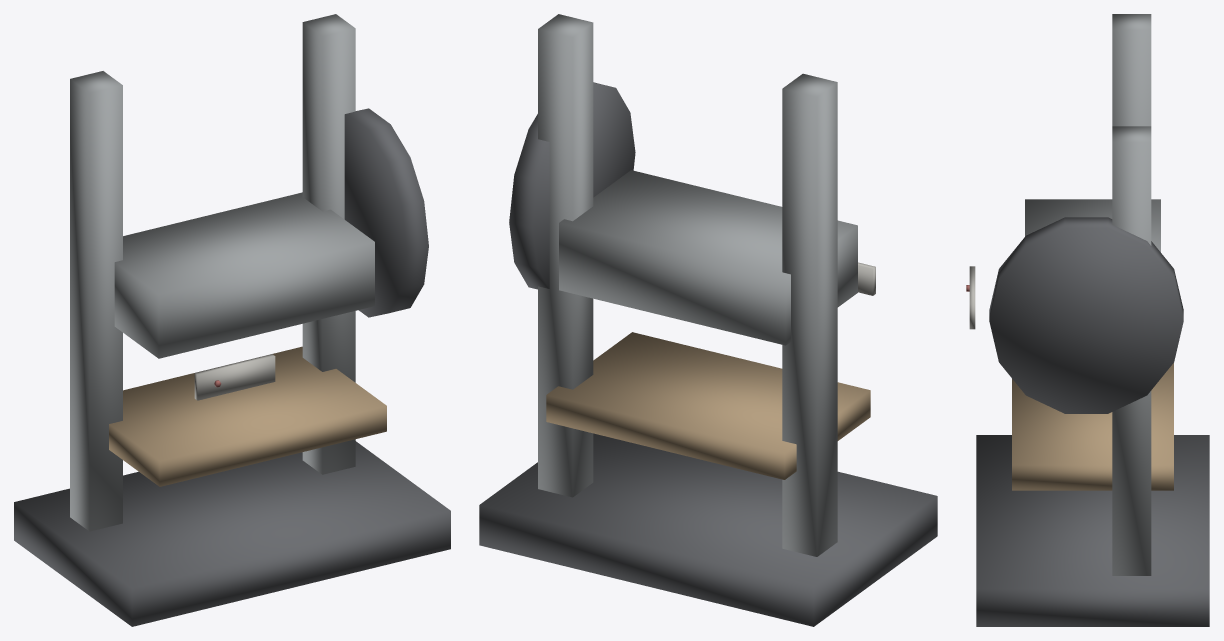
Rendered from letterpress_silhouette__compact.glb.
3 renders of one model, left to right at view 1: azimuth 30°, elevation 25°; view 2: azimuth 150°, elevation 25°; view 3: azimuth 270°, elevation 25°, orthographic. The views are drawn at different scales.
Visible parts, largest first — view 1: world; view 2: world; view 3: world.
Part boxes in pixels (box(x1,y1,x2,y2)): world: box(14, 14, 450, 626); world: box(479, 14, 937, 626); world: box(966, 14, 1209, 626).
Size of the model in its own units: 0.966 by 1.38 by 0.6459.
